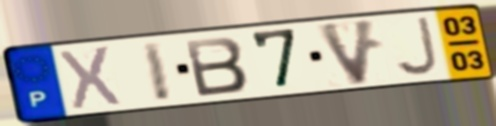7: (248, 27, 300, 93)
B: (181, 34, 251, 99)
I: (138, 39, 175, 104)
J: (392, 15, 441, 78)
V: (314, 16, 380, 88)
X: (56, 43, 124, 112)
